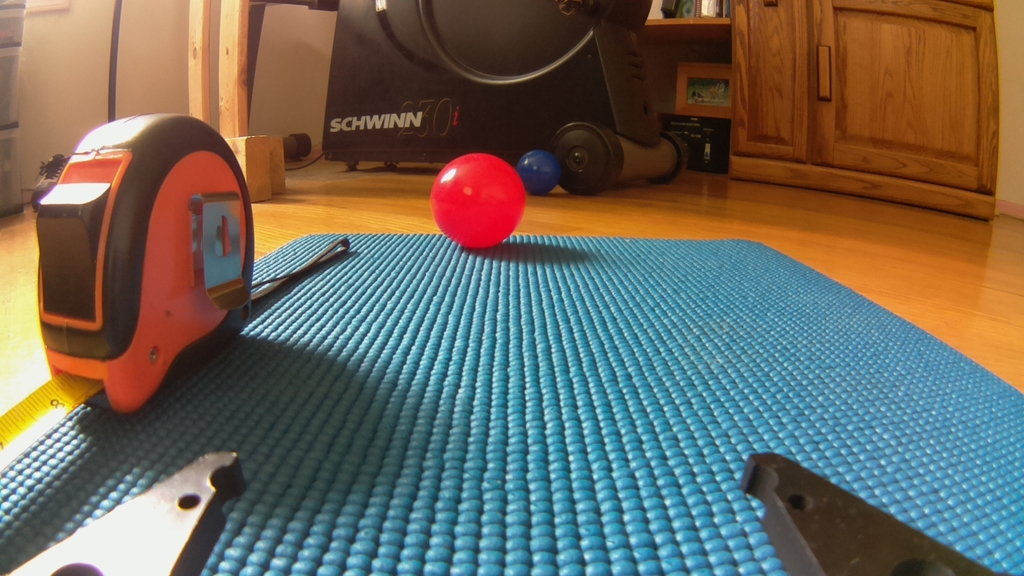ball: (432, 152, 527, 252)
